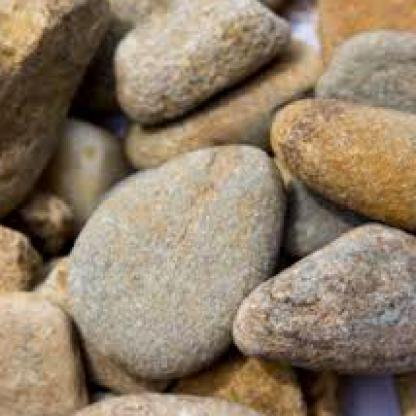Metamorphic_Marble: (70, 132, 282, 385), (214, 216, 414, 387), (105, 0, 299, 121), (257, 92, 414, 230)
